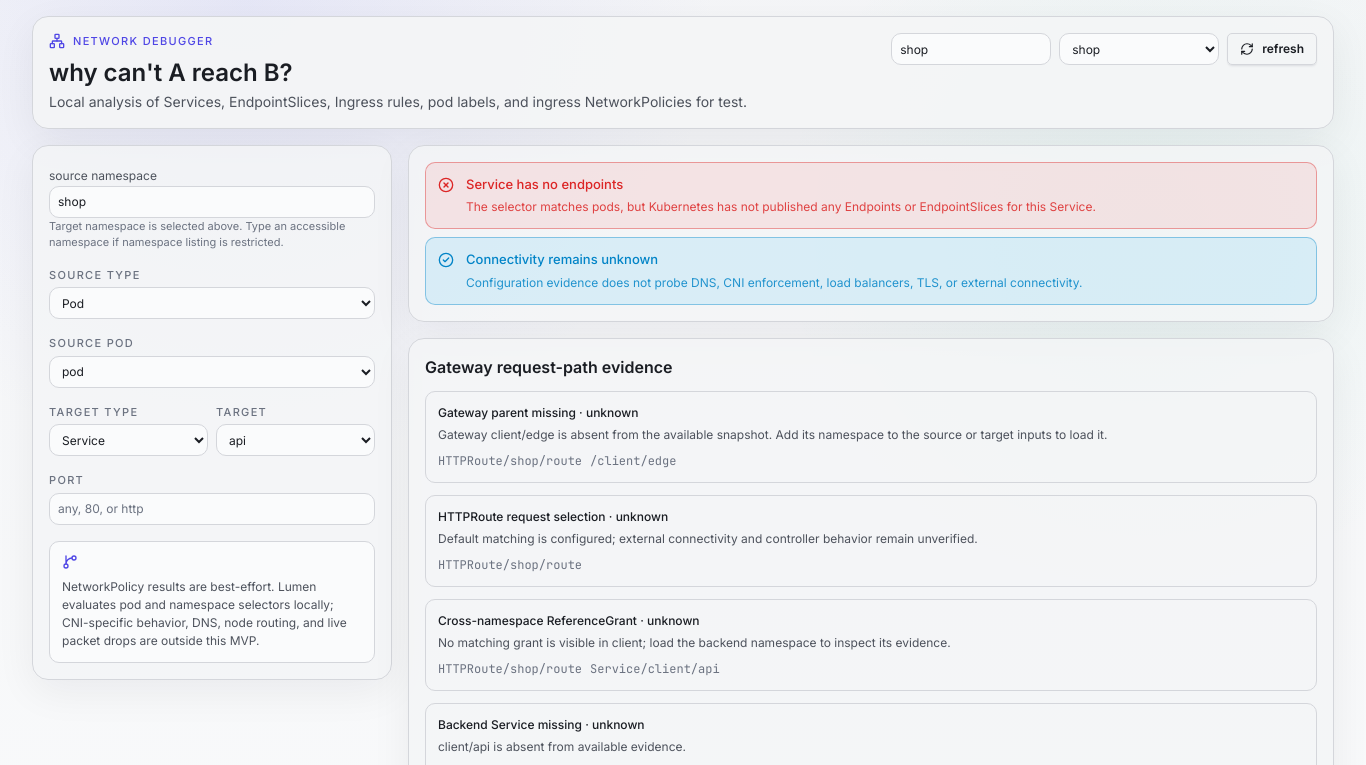
Test: drops stale source Gateway, backend and grant conclusions after its refresh fails
The image size is (1366, 765).
Expected: the text "Connectivity remains unknown" is shown, [466,251,658,267]
Replace the text in the field labelled "source namespace" with "client" at (212, 202), box [49,186,375,218]
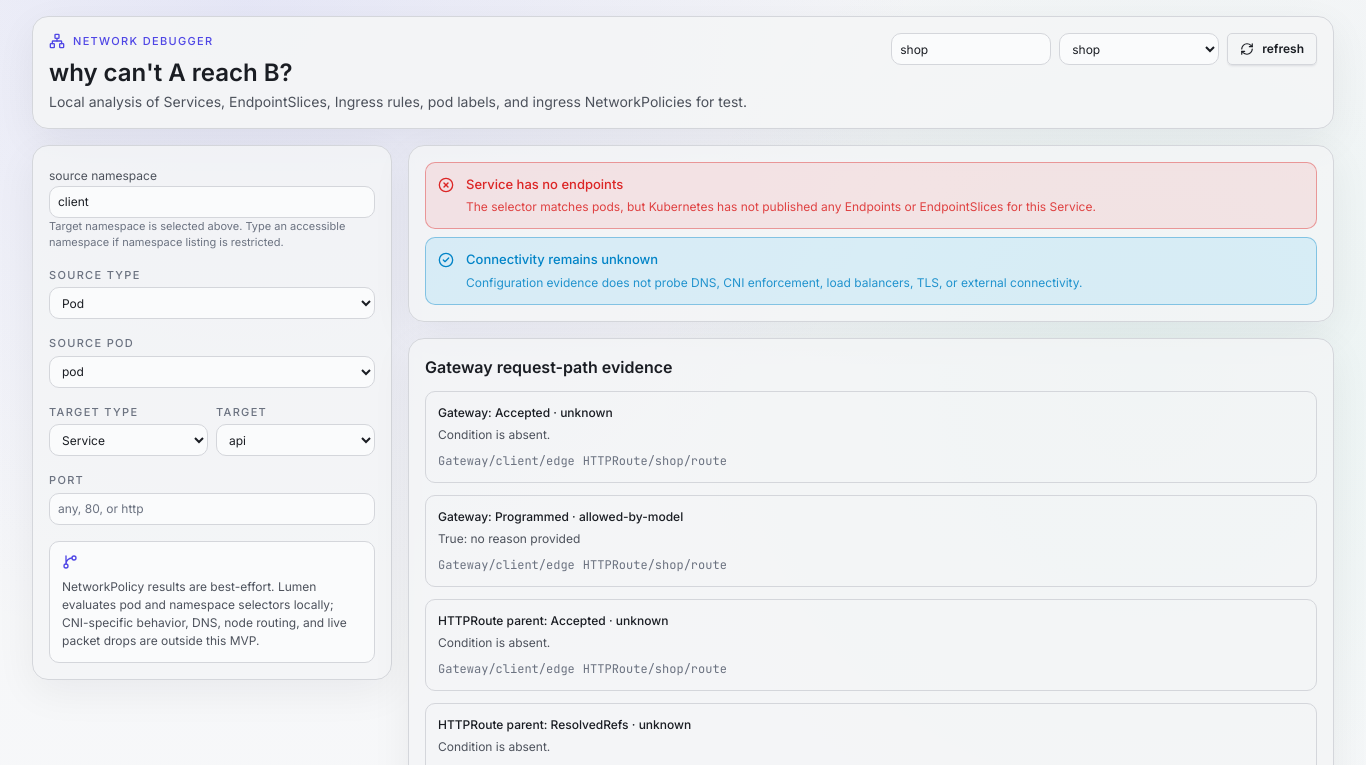
Click the button "refresh" at (1272, 49), box [1227,33,1317,65]
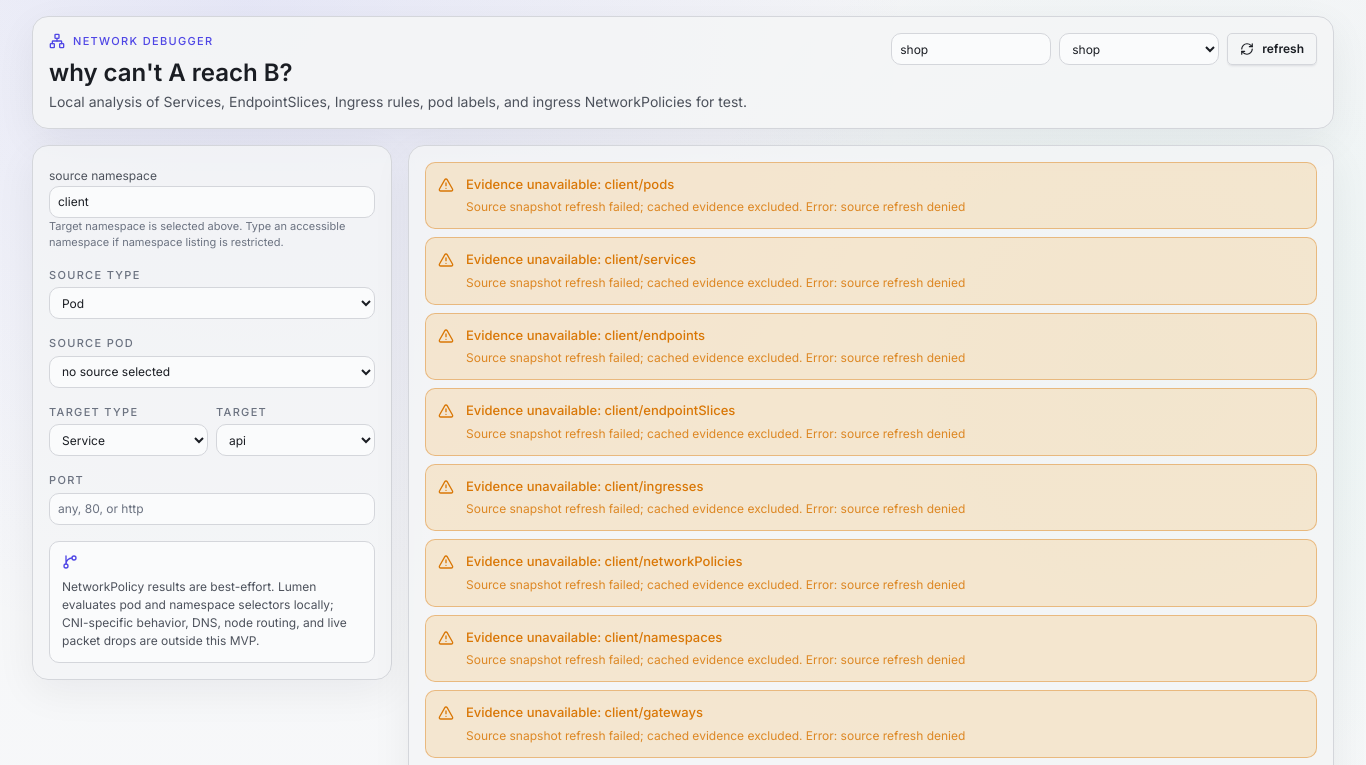
Result: the text "Evidence unavailable: client/gateways" is shown at [466,704,703,720]
